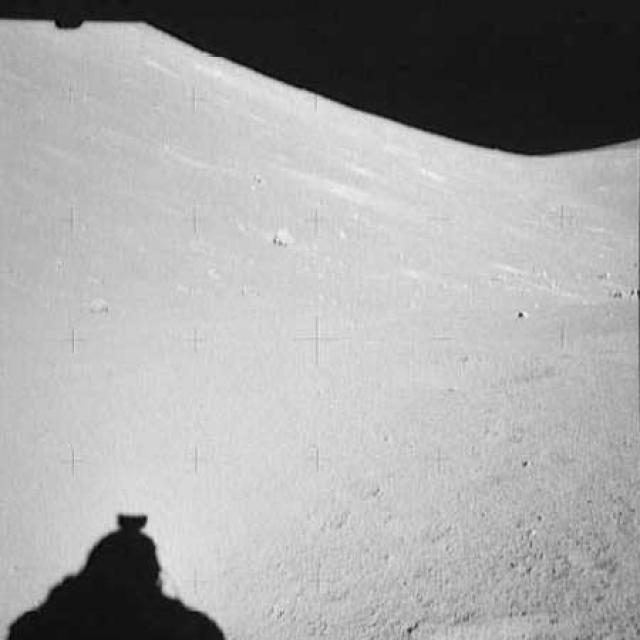rock: (270, 225, 297, 249), (512, 306, 532, 322)
